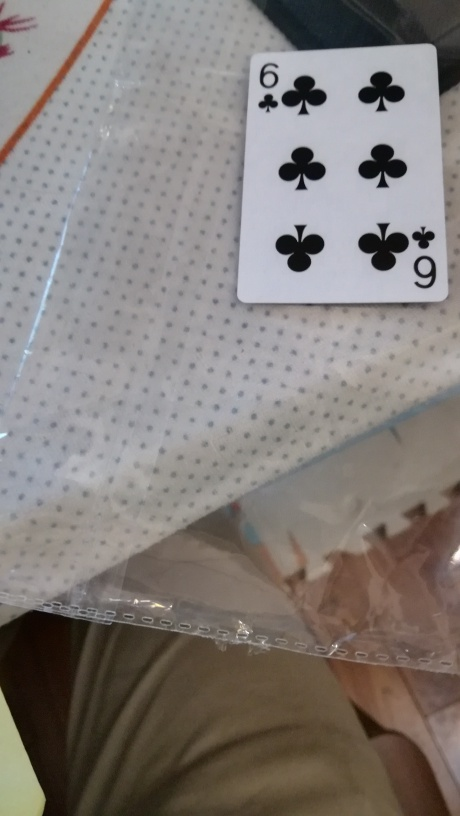mh 6: (242, 47, 451, 302)
